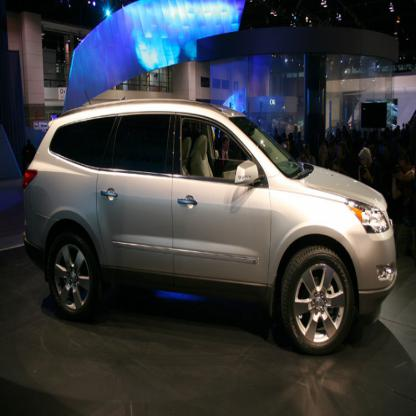Vehicle: (21, 90, 401, 361)
